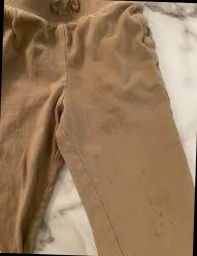oil: (89, 100, 123, 143), (133, 165, 150, 178)
